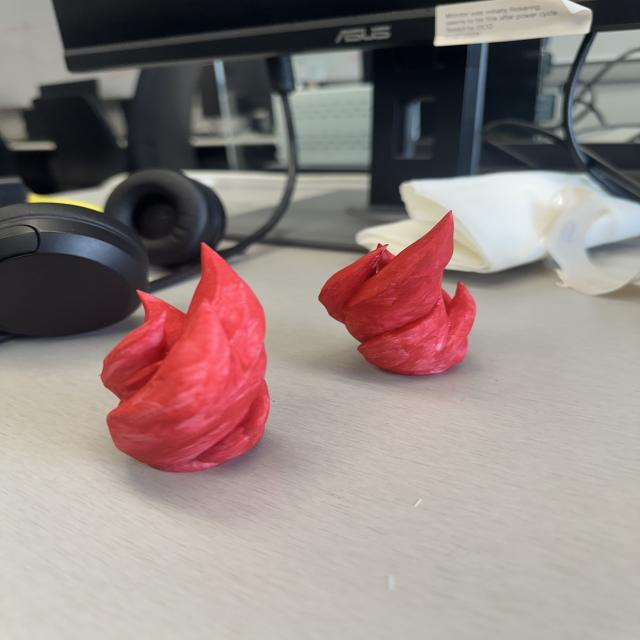fire: (100, 241, 276, 474), (318, 205, 480, 378)
